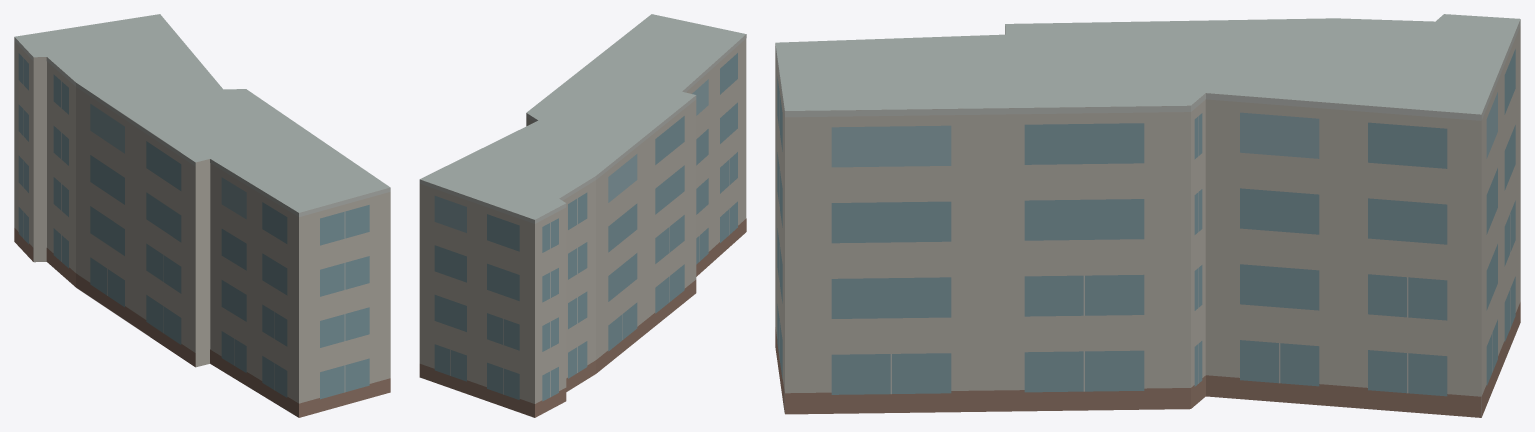
The model's file is survey-upis-32690384.glb.
3 renders of one model, left to right at view 1: azimuth 30°, elevation 25°; view 2: azimuth 150°, elevation 25°; view 3: azimuth 270°, elevation 25°, orthographic. The views are drawn at different scales.
Parts seen in each view (by area): view 1: survey-upis-32690384.tmp; view 2: survey-upis-32690384.tmp; view 3: survey-upis-32690384.tmp.
Part boxes in pixels (left/top/right/bottom): survey-upis-32690384.tmp: left=14, top=14, right=390, bottom=417; survey-upis-32690384.tmp: left=419, top=14, right=746, bottom=417; survey-upis-32690384.tmp: left=775, top=14, right=1520, bottom=417.
Bounding box in the file's own units: 8.33 × 11.7 × 26.07.
